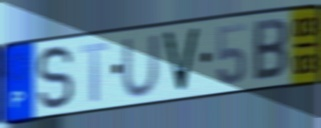5: (215, 20, 247, 87)
B: (251, 17, 290, 85)
S: (35, 42, 76, 114)
T: (79, 40, 110, 105)
U: (120, 32, 162, 100)
V: (160, 25, 202, 96)
